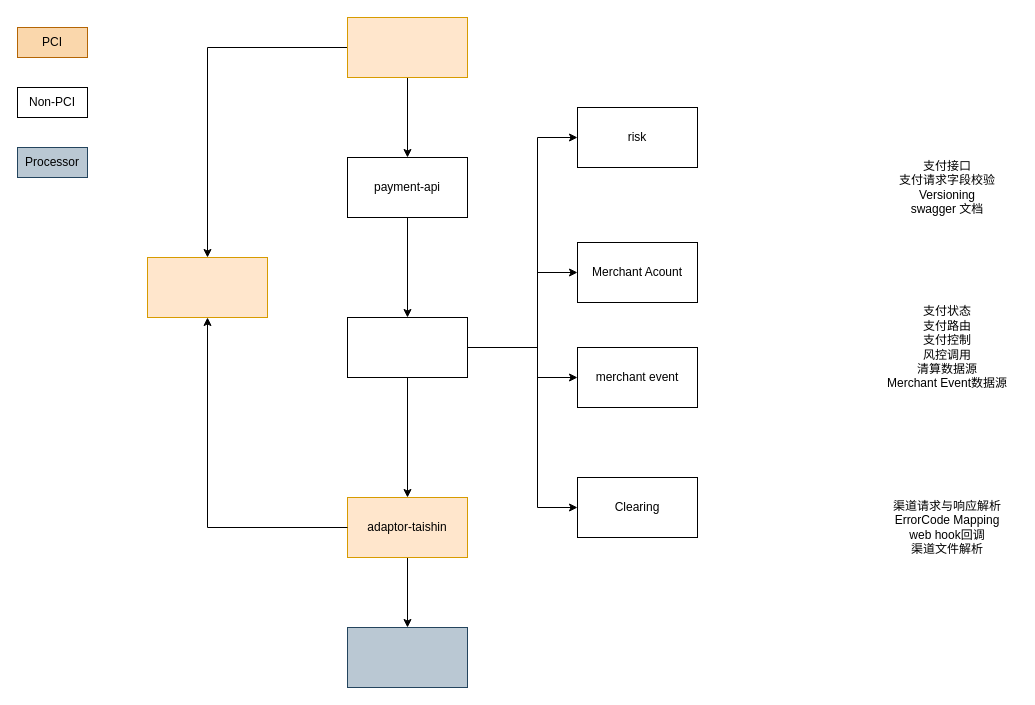
Image size: 1035x705. Some labels were removed from this diagram. The centre of each missing label's shape, as x and y in pixels:
payment-core: point (407, 347)
payment-gateway: point (407, 47)
taishin: point (407, 657)
token-service: point (207, 287)
